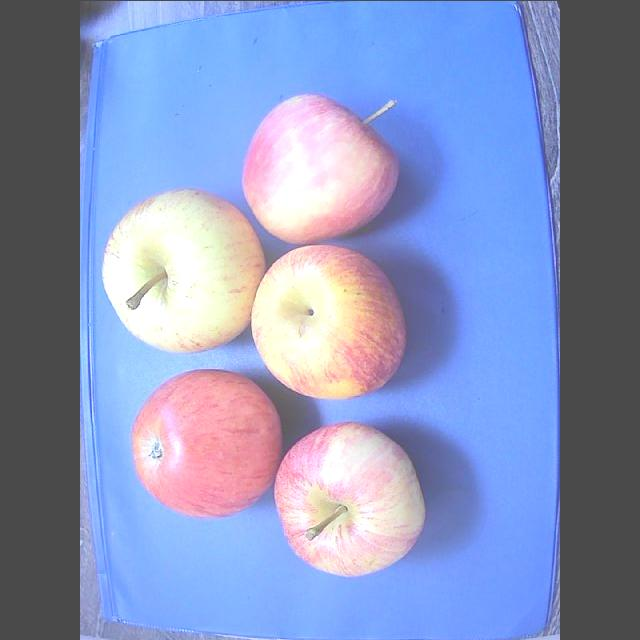manzana: (102, 190, 265, 351), (252, 245, 406, 398), (275, 422, 424, 576), (243, 94, 398, 242), (132, 369, 281, 516)
